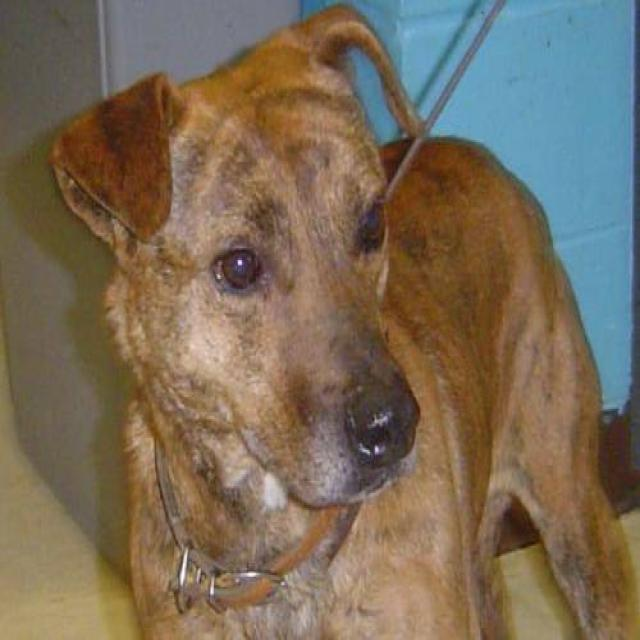dog: (48, 4, 638, 638)
